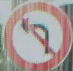Don't turn left: (5, 5, 64, 59)
